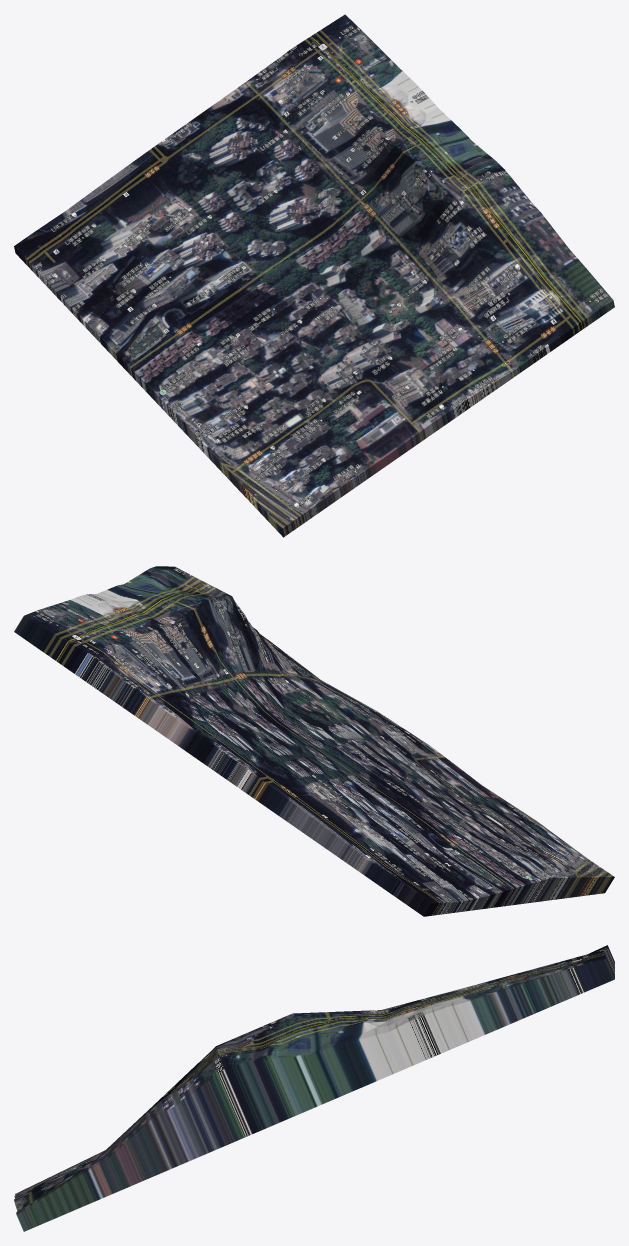
3 views of the same model, one above another, from view 1: azimuth 30°, elevation 25°; view 2: azimuth 150°, elevation 25°; view 3: azimuth 270°, elevation 25° (orthographic). The views are drawn at different scales.
Visible parts, largest first — view 1: 0_7_23; view 2: 0_7_23; view 3: 0_7_23.
Part boxes in pixels (<box>): 0_7_23: <box>14,14,614,537</box>; 0_7_23: <box>14,566,614,916</box>; 0_7_23: <box>14,945,614,1231</box>.
Size of the model in its own units: 598 by 446 by 551.
1 material, 1 textured.
